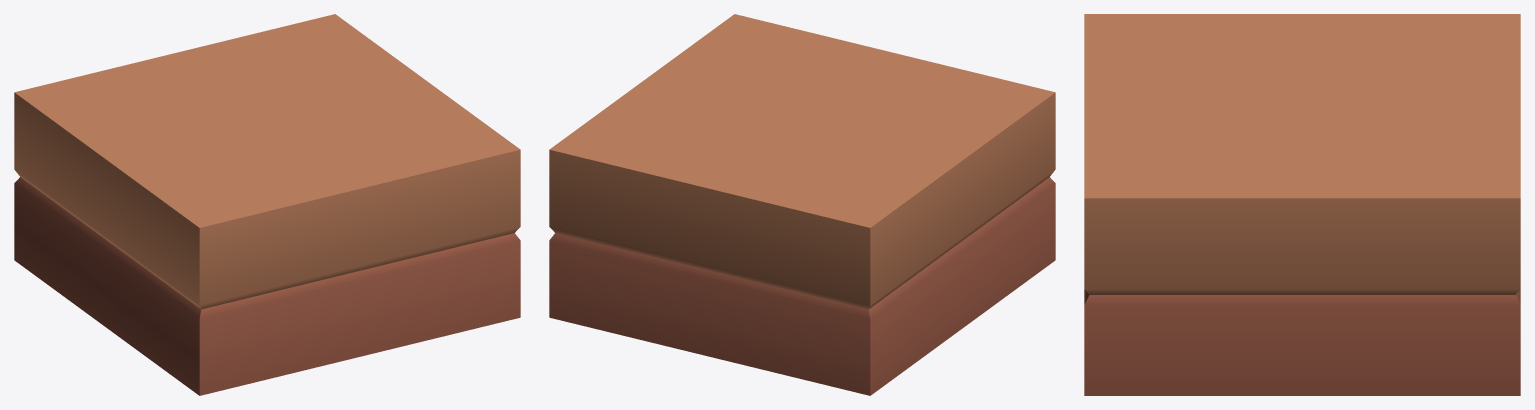
Rendered from square_rock_detail.glb.
The picture shows the model from 3 angles, left to right: view 1: azimuth 30°, elevation 25°; view 2: azimuth 150°, elevation 25°; view 3: azimuth 270°, elevation 25°; orthographic projection. The views are drawn at different scales.
Visible parts, largest first — view 1: square_rock_detail; view 2: square_rock_detail; view 3: square_rock_detail.
Part boxes in pixels (box(x1,y1,x2,y2)): square_rock_detail: box(14, 14, 520, 395); square_rock_detail: box(549, 14, 1055, 395); square_rock_detail: box(1084, 14, 1520, 395).
Size of the model in its own units: 2 by 1 by 2.
